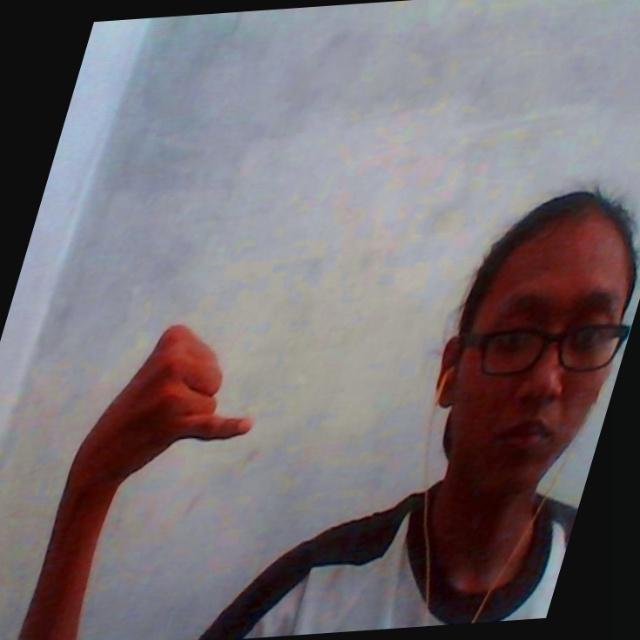J: (53, 298, 282, 488)
